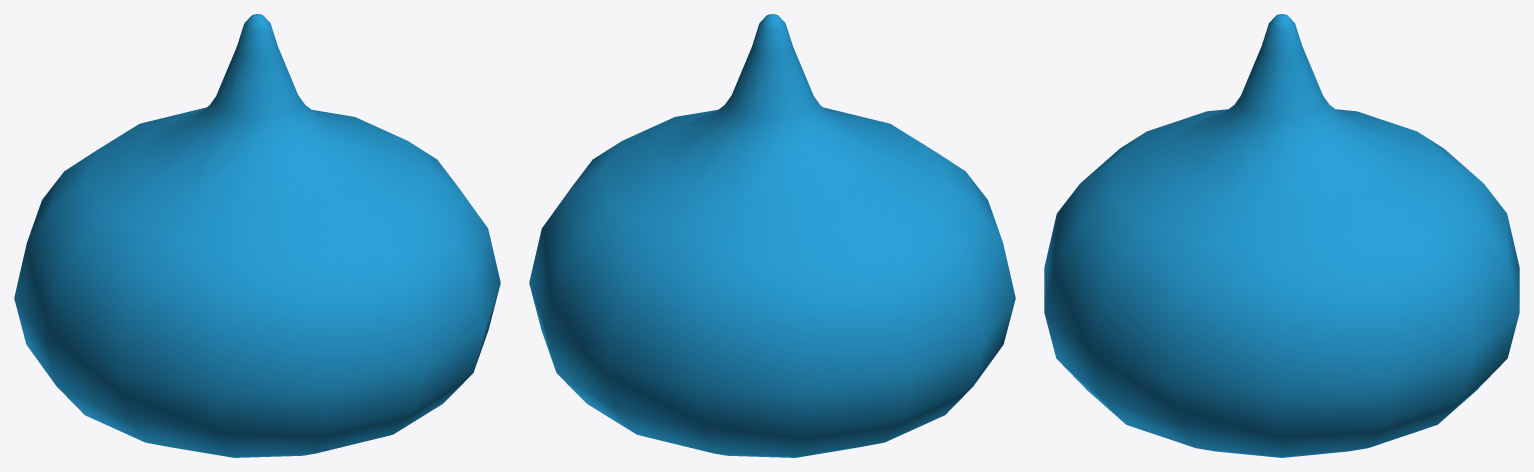
Rendered from slime_simple_low.obj.
3 renders of one model, left to right at view 1: azimuth 30°, elevation 25°; view 2: azimuth 150°, elevation 25°; view 3: azimuth 270°, elevation 25°, orthographic.
Parts seen in each view (by area): view 1: slime; view 2: slime; view 3: slime.
Part boxes in pixels (x1=…): slime: x1=14, y1=14, x2=500, y2=457; slime: x1=529, y1=14, x2=1015, y2=457; slime: x1=1044, y1=14, x2=1519, y2=457.
Bounding box in the file's own units: 1.88 × 1.72 × 1.83.
